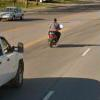Motorcycle: (43, 19, 61, 47)
